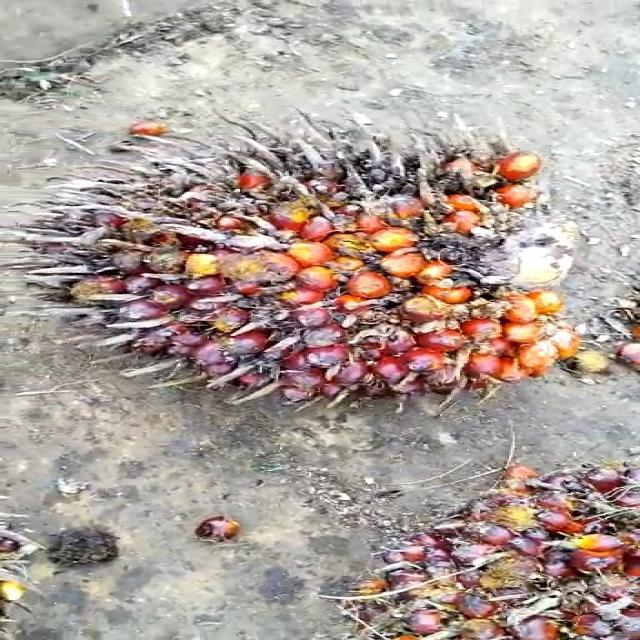palm oil: (45, 137, 614, 428)
